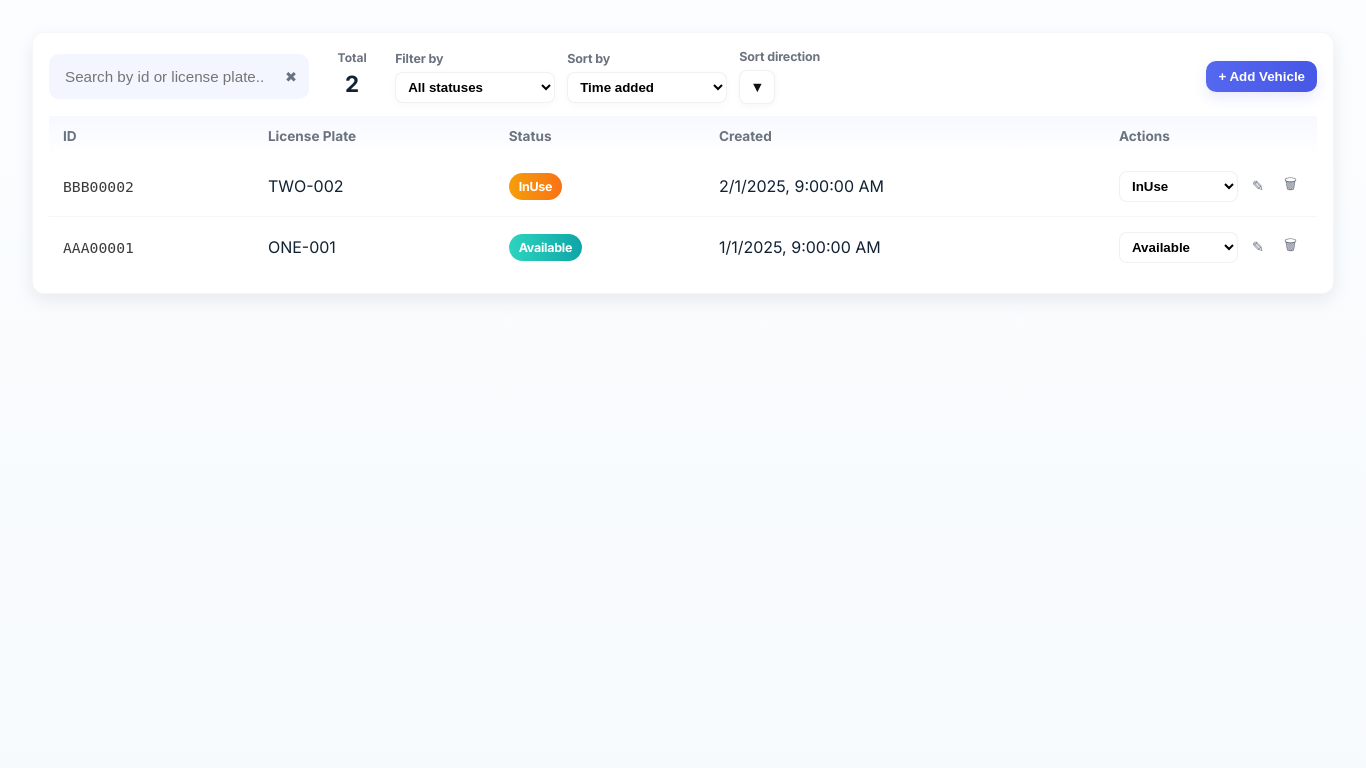
Scenario: VehicleTable — more advanced flows › delete succeeds when Available
Expected: the text "AAA00001" is shown, [49,216,254,277]
Click the button titled "Delete vehicle" in the row of "AAA00001": (1290,247) [1278,229,1303,265]
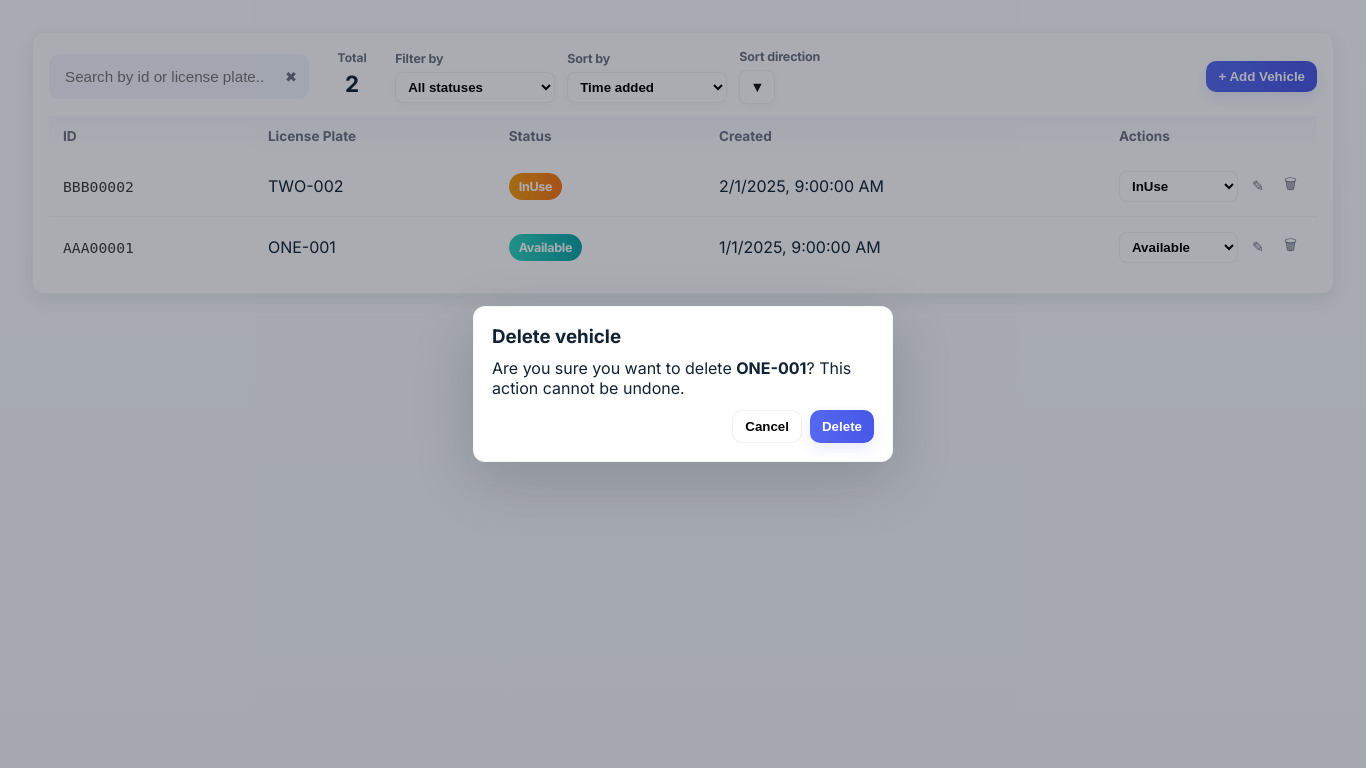
Click the button "Delete": (842,426) [810,410,874,443]
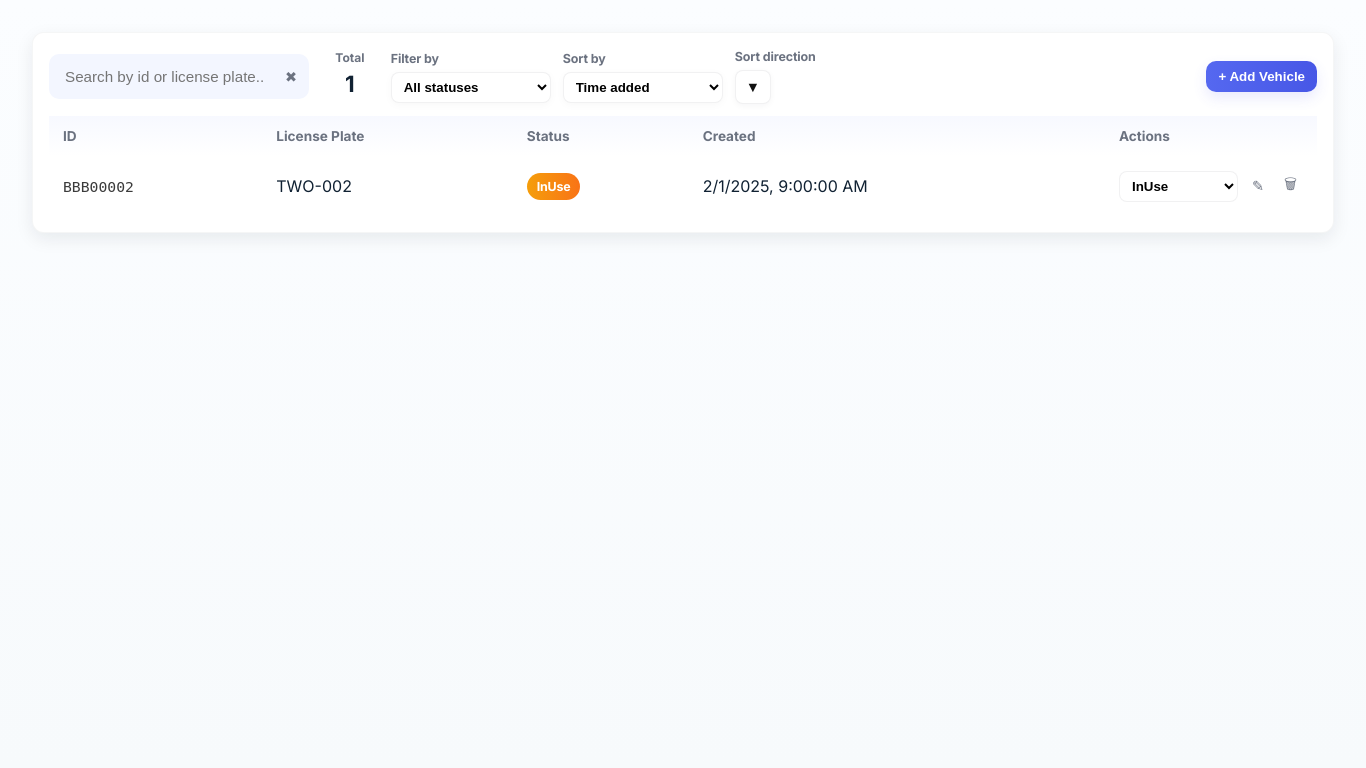
Result: the text "AAA00001" is gone
